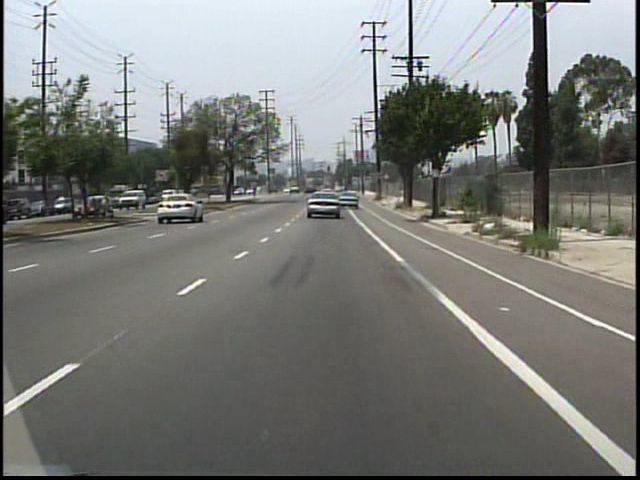person: (58, 193, 69, 215)
